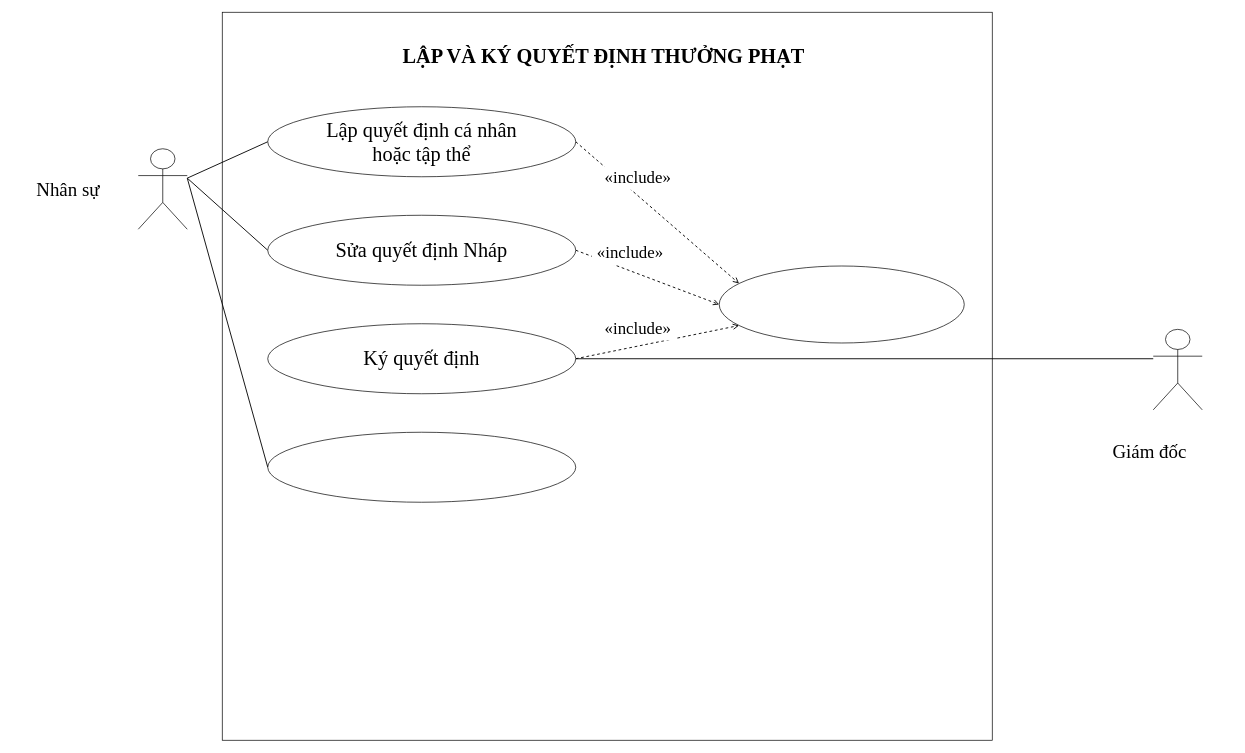
The diagram is 1245 pixels wide and 753 high, and some of its shapes have lost their labels. The box of each missing label's shape, as (x1, y1, x2, y2) in pixels:
Kiểm tra quyền, đối tượng, số tiền và phân bổ: (719, 265, 964, 343)
Tra cứu quyết định: (267, 432, 576, 502)
